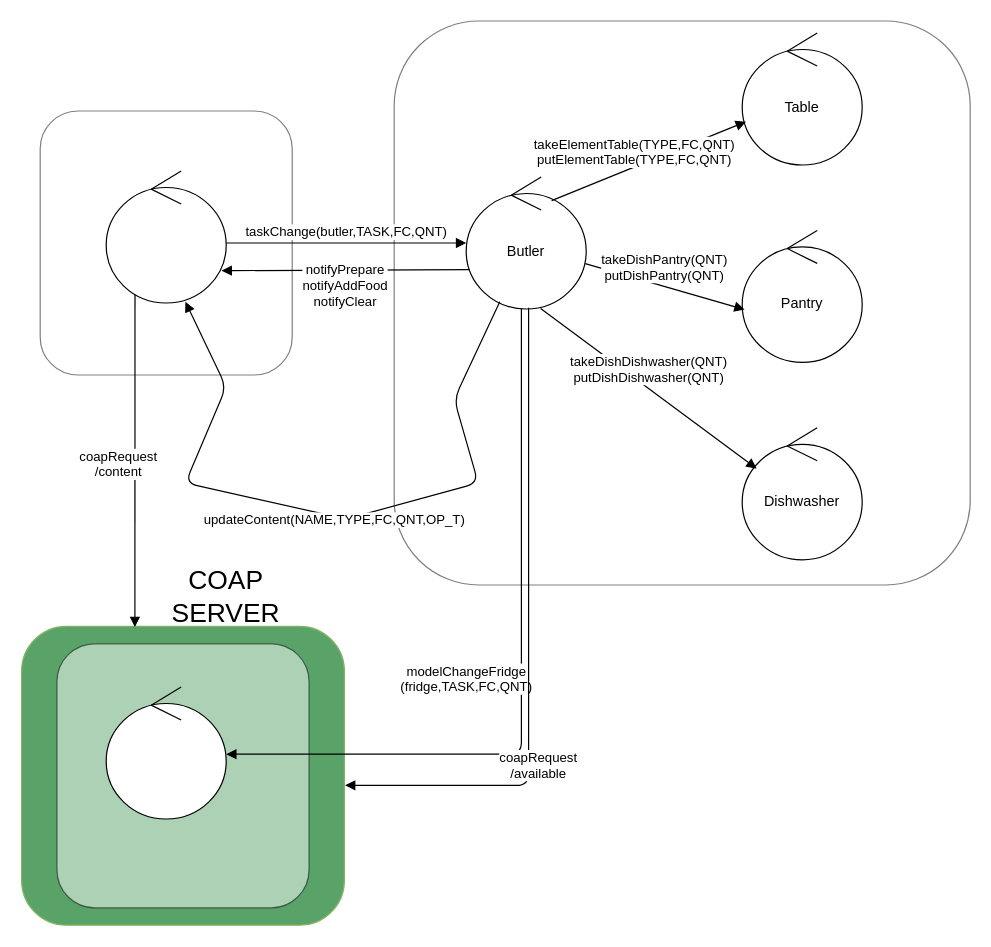
This 991x947 diagram has some shape labels left out. The box of each missing label's shape, as (x1, y1, x2, y2) in pixels:
Fridge: (105, 686, 226, 819)
Maitre: (105, 170, 226, 303)
